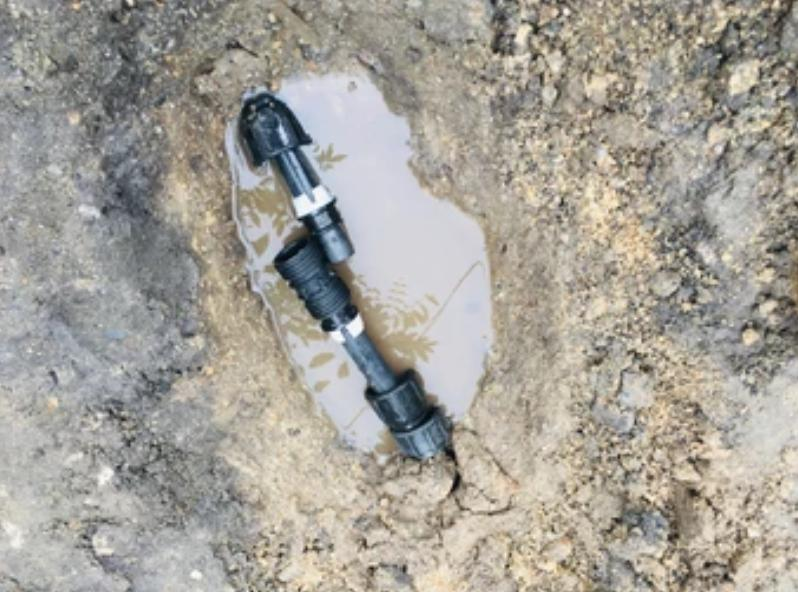water accumulation: (221, 66, 496, 466)
